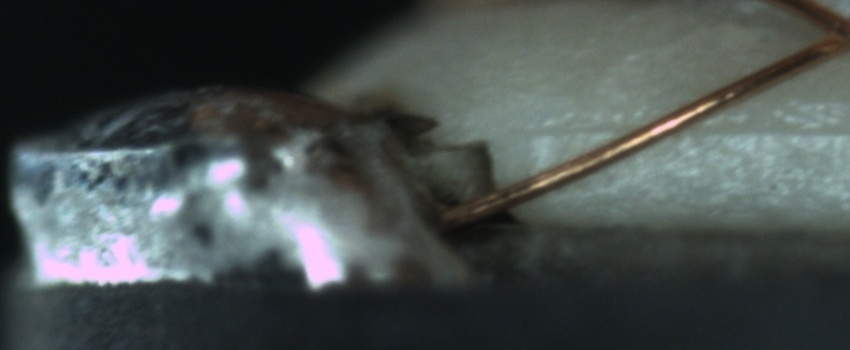CL: (798, 4, 850, 62)
DL: (531, 98, 850, 160)
